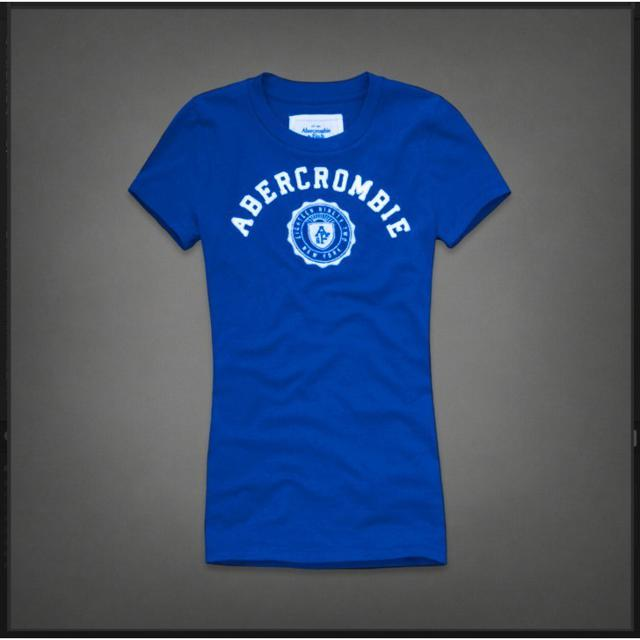Tops: (131, 71, 507, 568)
